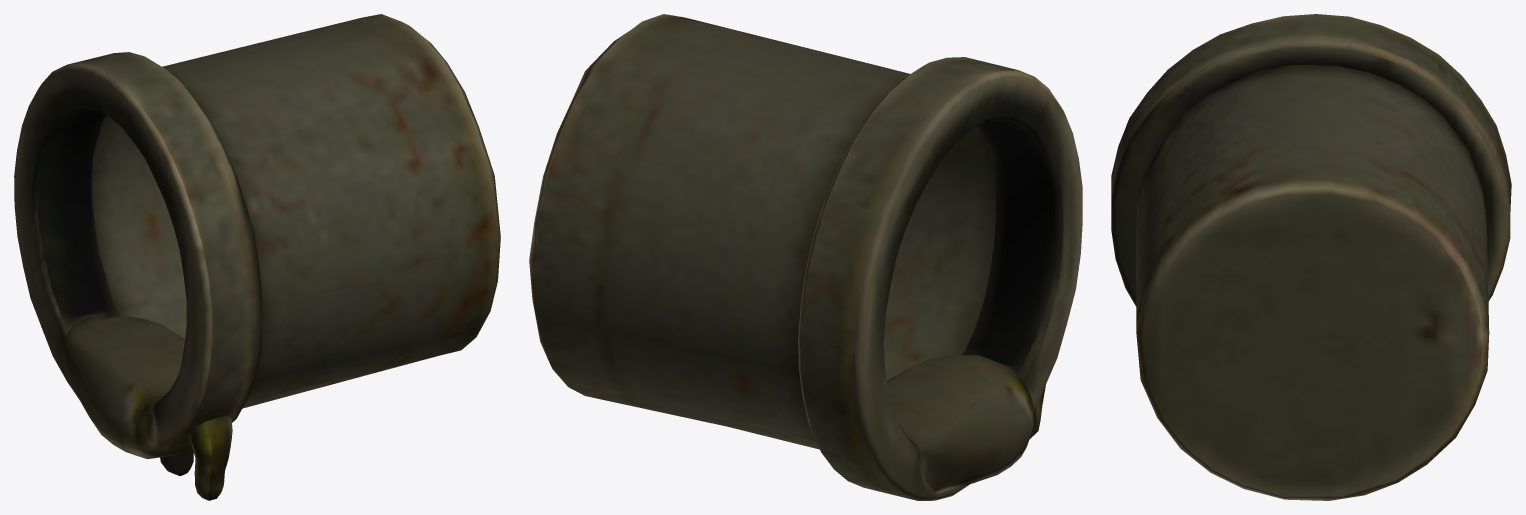
File: pipe_rectangular_housing.fbx
3 renders of one model, left to right at view 1: azimuth 30°, elevation 25°; view 2: azimuth 150°, elevation 25°; view 3: azimuth 270°, elevation 25°, orthographic. The views are drawn at different scales.
Visible parts, largest first — view 1: pipe_rectangular_housing; view 2: pipe_rectangular_housing; view 3: pipe_rectangular_housing.
Part boxes in pixels (<box>): pipe_rectangular_housing: <box>14,14,500,500</box>; pipe_rectangular_housing: <box>529,14,1082,500</box>; pipe_rectangular_housing: <box>1111,14,1511,500</box>.
Size of the model in its own units: 61.09 by 66.11 by 62.66.
